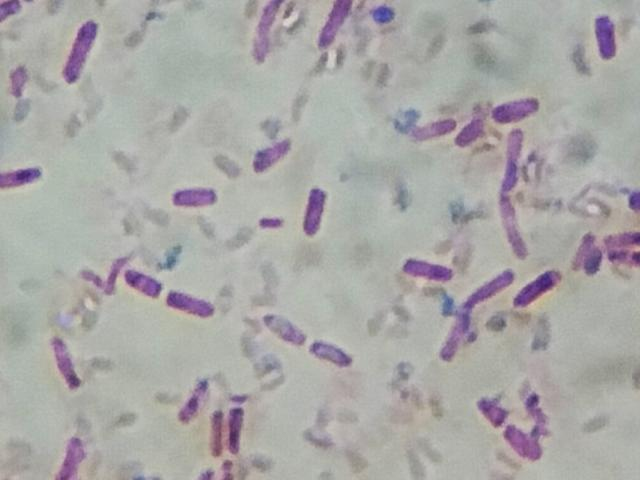E. coli: (168, 275, 219, 325), (62, 21, 98, 89), (466, 266, 518, 309), (313, 0, 355, 52), (256, 1, 283, 64), (53, 334, 81, 394), (179, 369, 208, 426), (123, 262, 162, 304), (173, 177, 220, 211), (405, 253, 456, 284), (300, 182, 326, 242), (440, 307, 466, 367), (519, 270, 561, 307), (250, 139, 295, 173), (267, 310, 304, 351), (593, 11, 621, 65), (59, 428, 88, 480), (502, 127, 528, 184), (505, 426, 547, 461), (417, 110, 459, 144), (0, 163, 47, 193), (317, 335, 354, 373), (494, 94, 542, 122), (227, 404, 248, 459), (207, 404, 228, 459), (501, 219, 529, 260), (475, 392, 509, 425), (11, 65, 35, 104), (461, 119, 490, 150), (500, 190, 523, 225), (571, 229, 589, 271), (0, 0, 26, 28), (607, 230, 640, 252), (612, 252, 640, 271), (393, 77, 394, 77)
